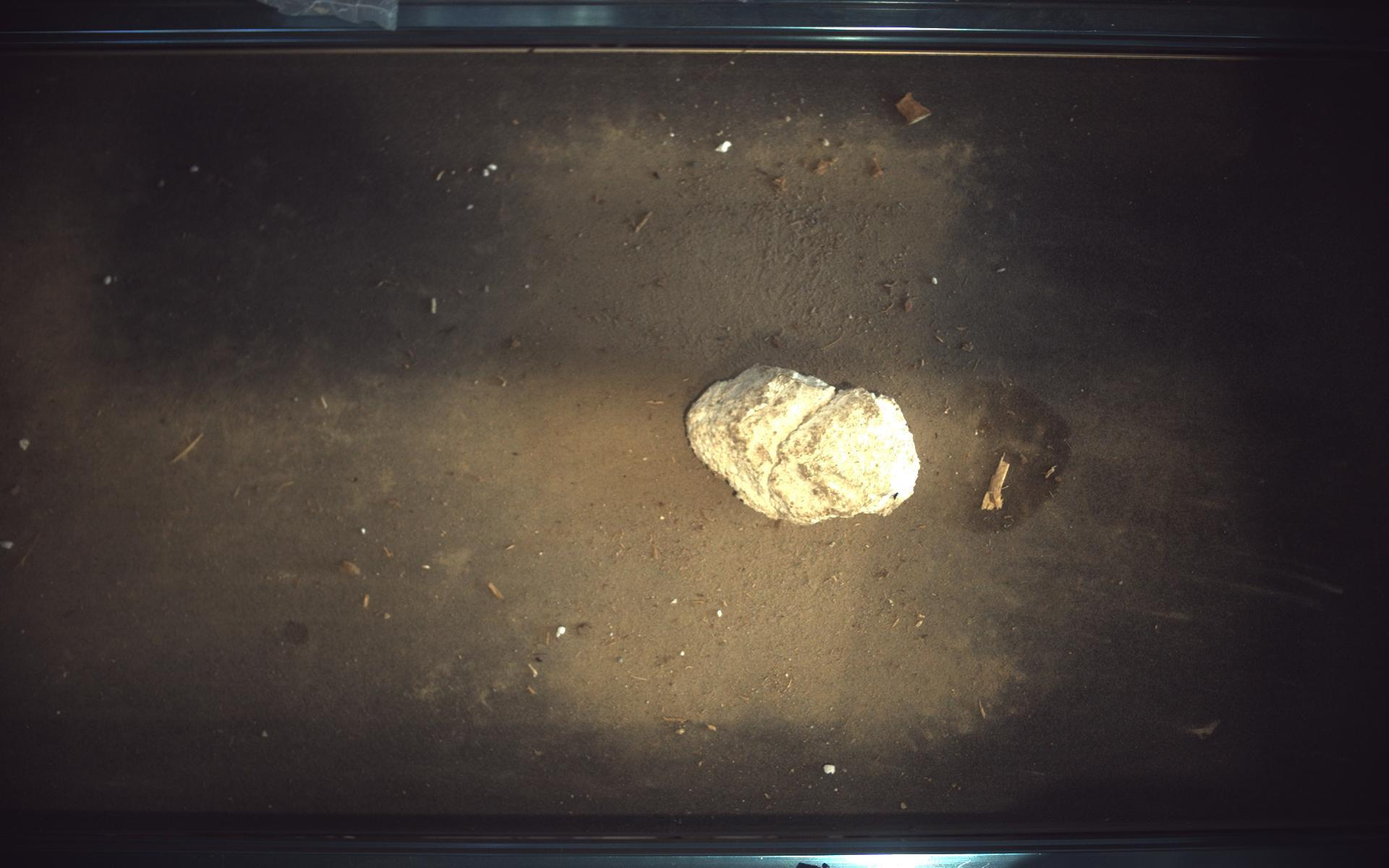foam: (688, 365, 922, 524)
